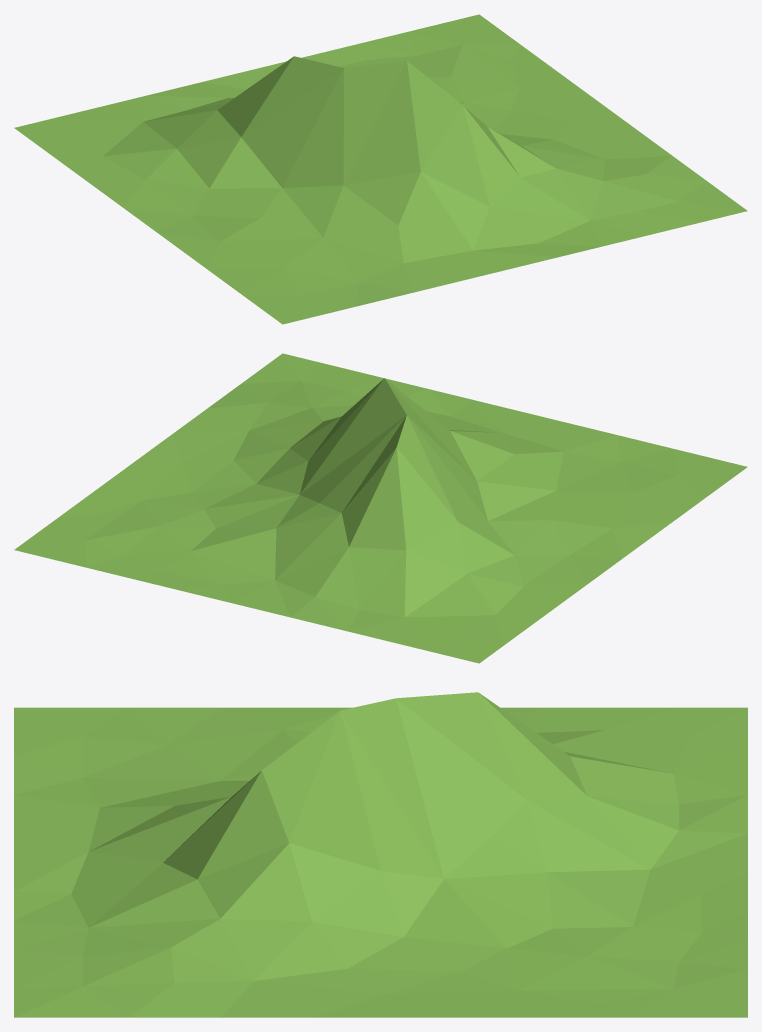
File: MT_Terrain_S_a_18.fbx
3 views of the same model, one above another, from view 1: azimuth 30°, elevation 25°; view 2: azimuth 150°, elevation 25°; view 3: azimuth 270°, elevation 25° (orthographic). The views are drawn at different scales.
Parts seen in each view (by area): view 1: MT_Terrain_S_a_18; view 2: MT_Terrain_S_a_18; view 3: MT_Terrain_S_a_18.
Part boxes in pixels (x1,y1,x2,y2): MT_Terrain_S_a_18: [14, 14, 747, 324]; MT_Terrain_S_a_18: [14, 353, 747, 663]; MT_Terrain_S_a_18: [14, 692, 747, 1017].
Bounding box in the file's own units: 2500 × 608 × 2500.
